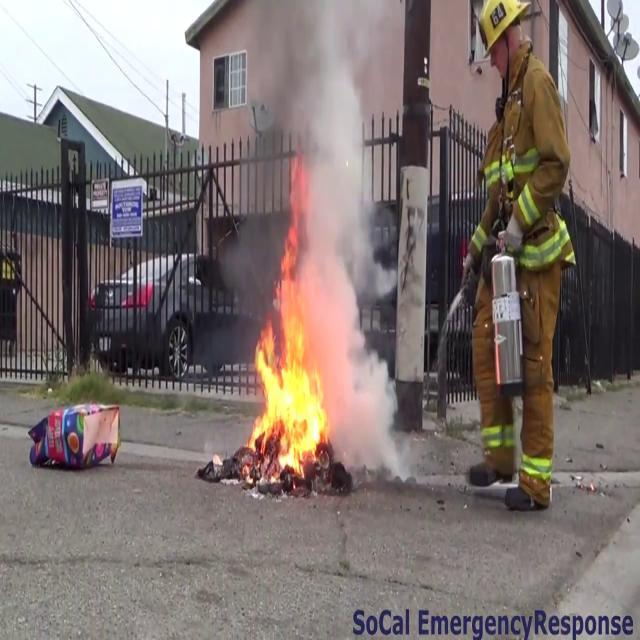Fire: (245, 238, 333, 482)
Smoke: (256, 2, 382, 306)
